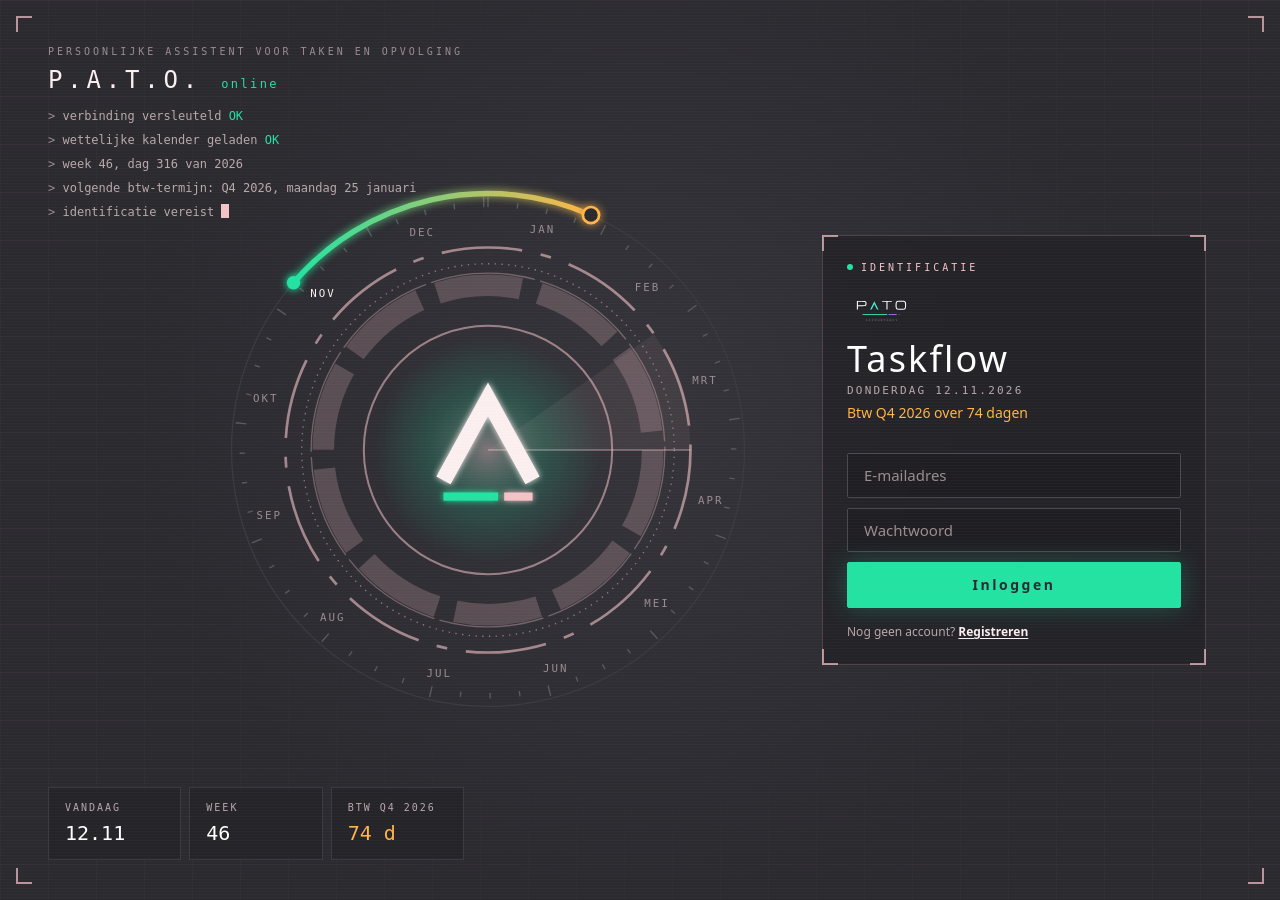
AuthPage: sign up › shows an error message and no info message when sign-up fails
Click the button "Registreren" at [993, 632], box [958,624,1028,640]
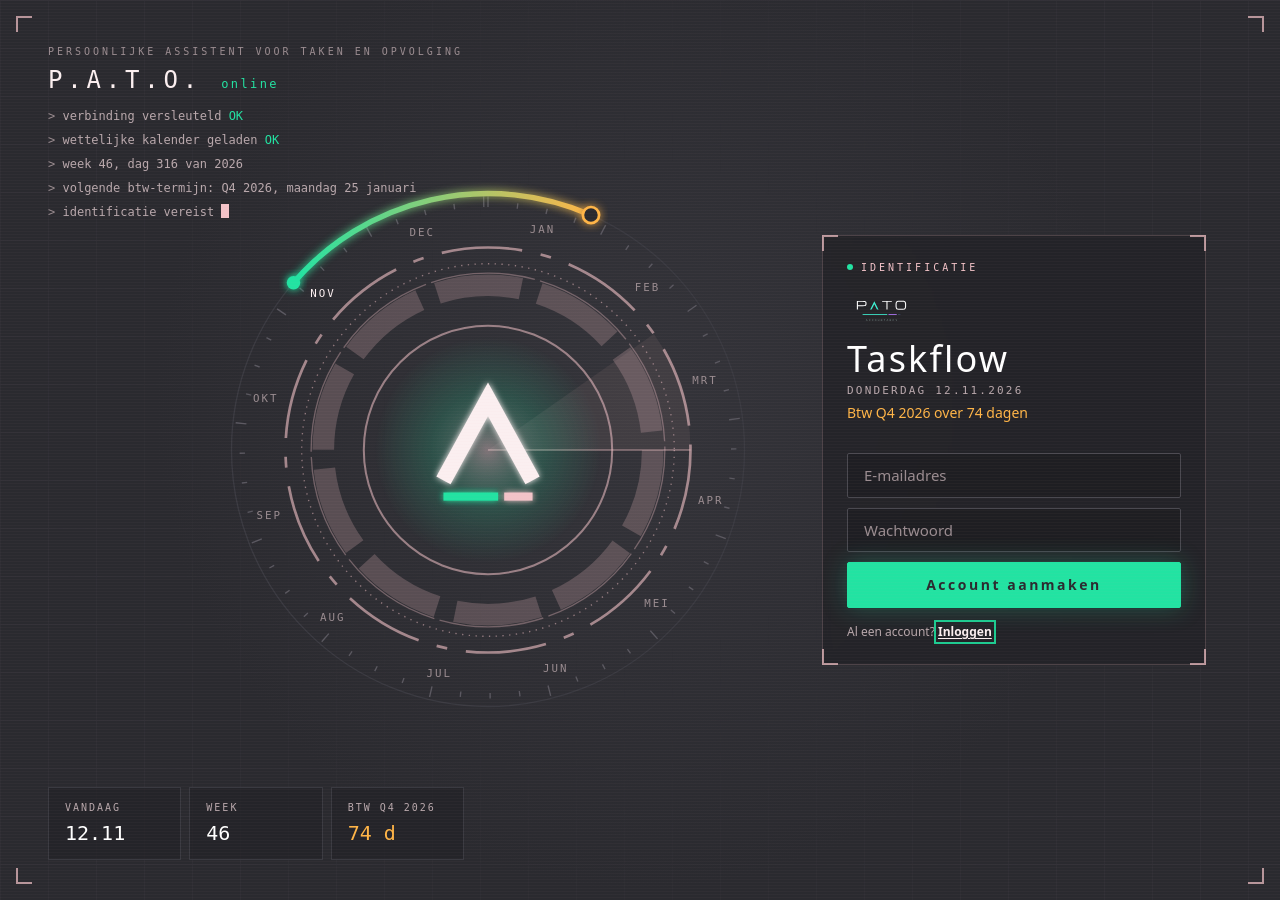
Type "existing@example.com" into the field labelled "E-mailadres" at [1014, 476], box [847,453,1181,498]
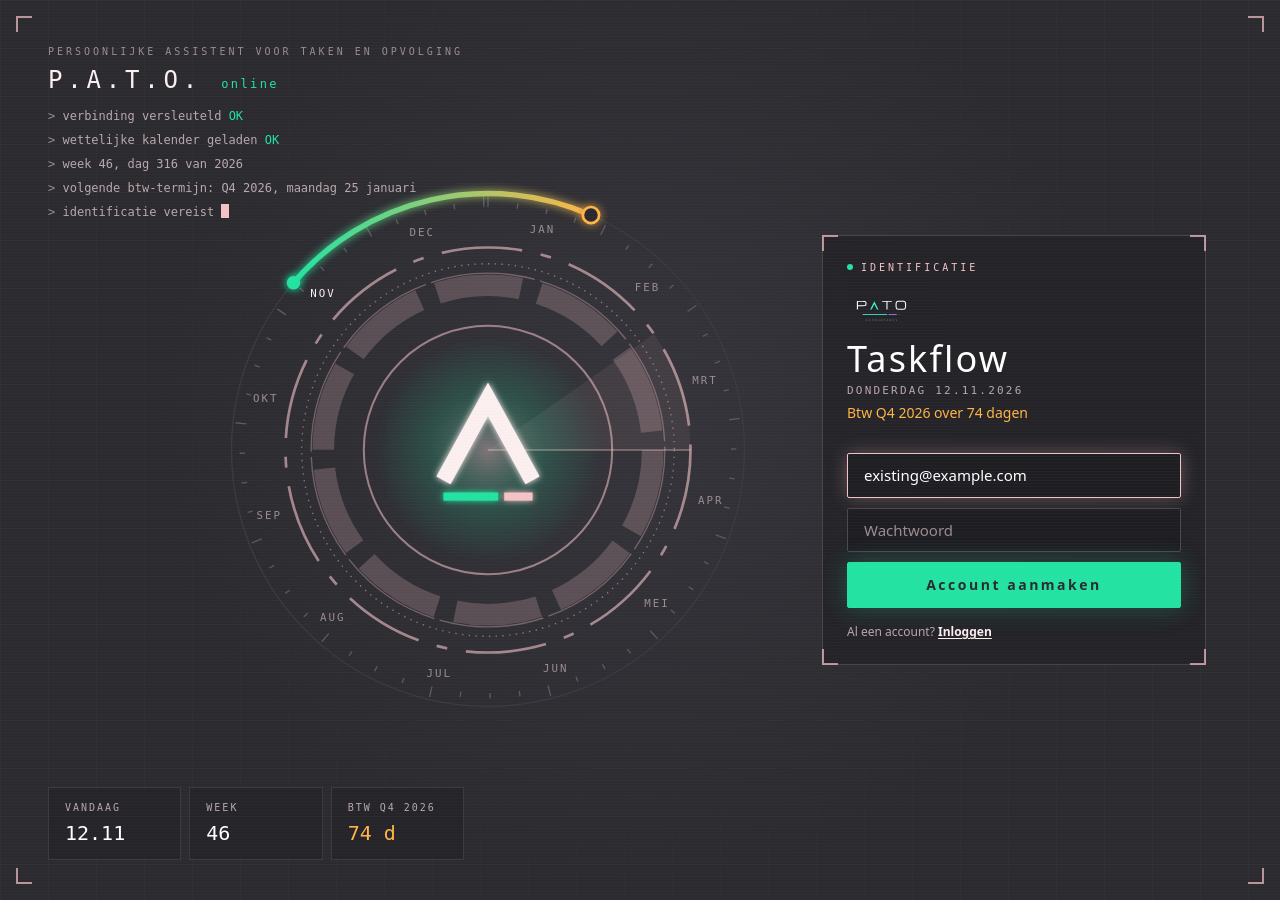
Type "secret1" into the password field labelled "Wachtwoord" at [1014, 530], box [847,508,1181,552]
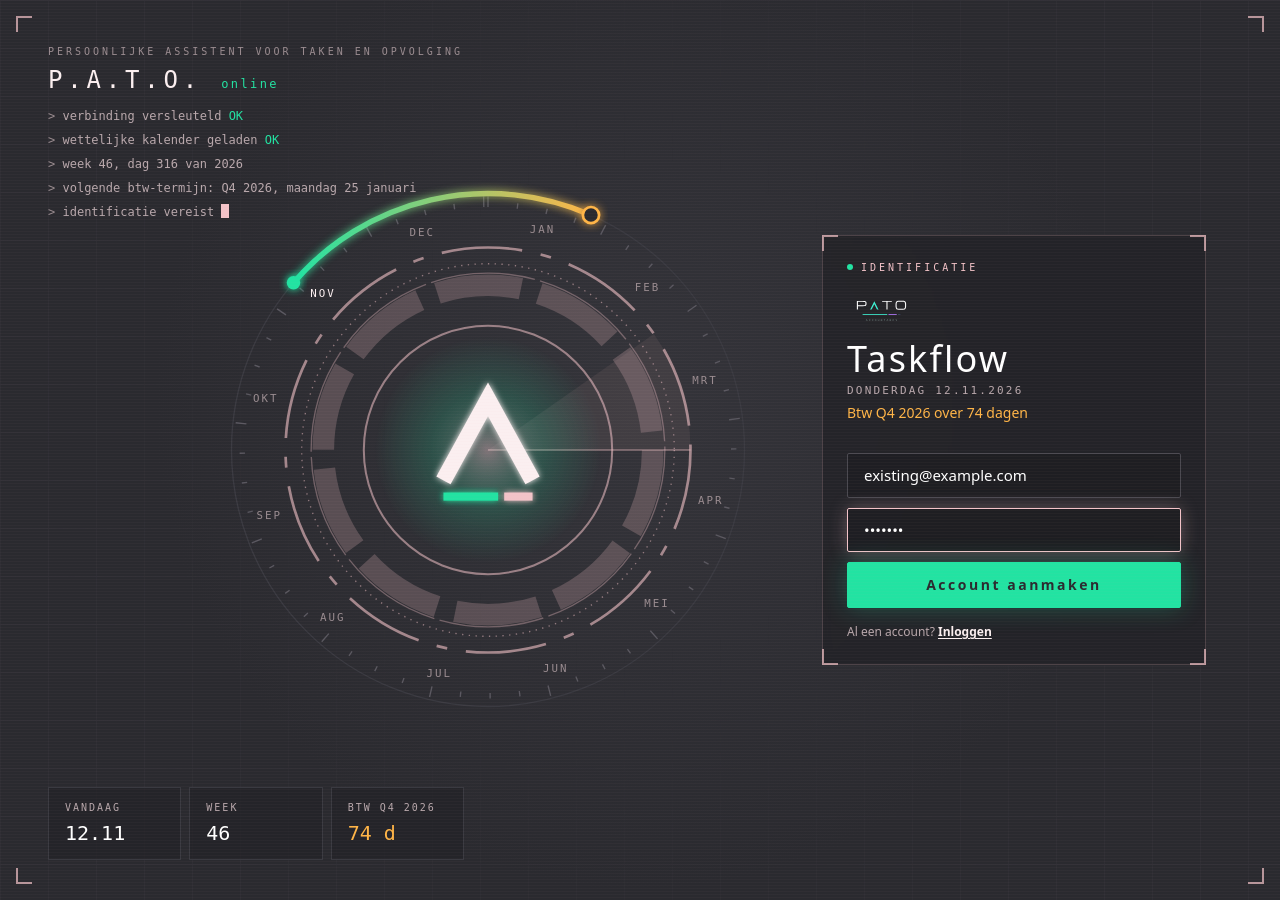
Click the button "Account aanmaken" at [1014, 585], box [847,562,1181,608]
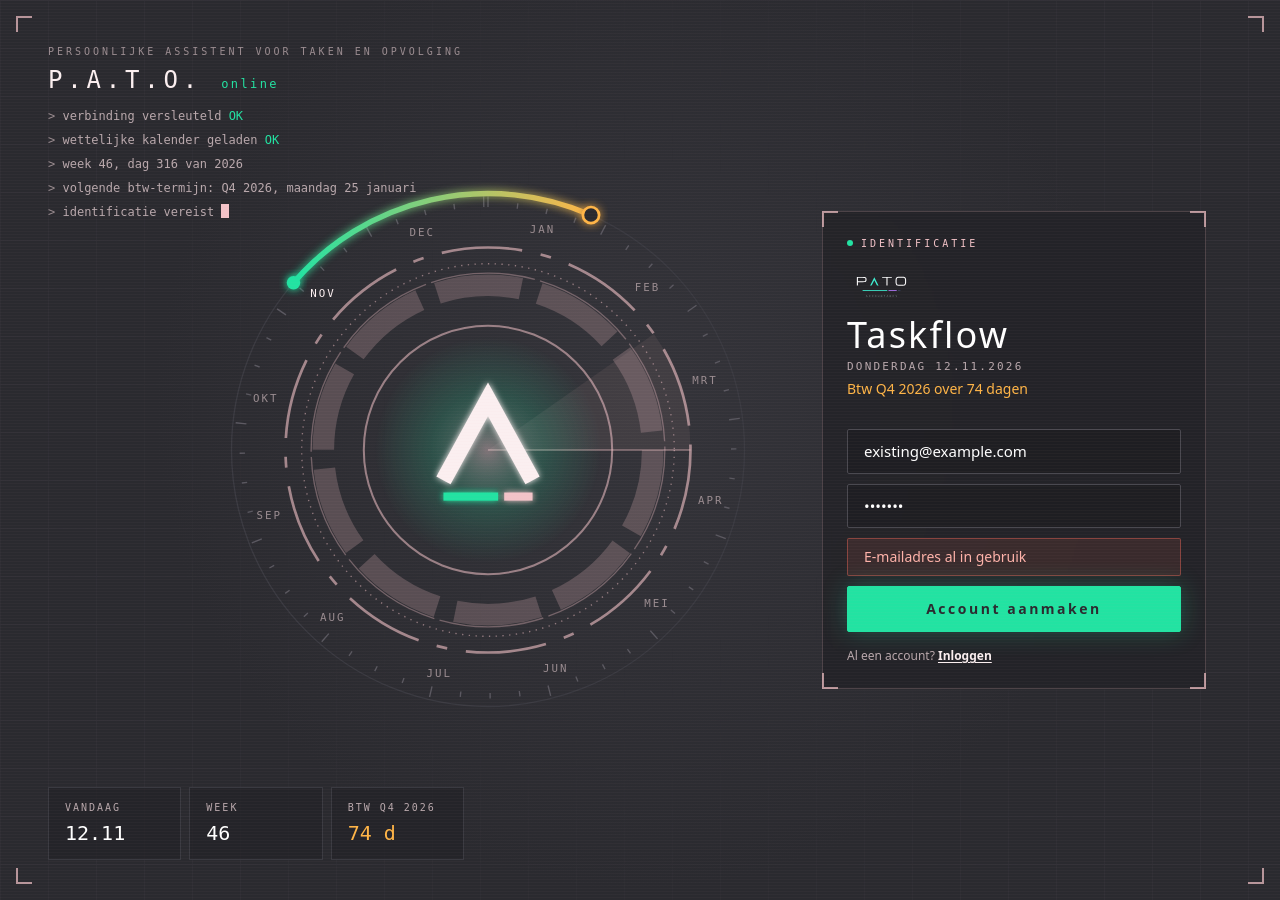
Result: the message reads "E-mailadres al in gebruik" at [864,547,1026,566]
